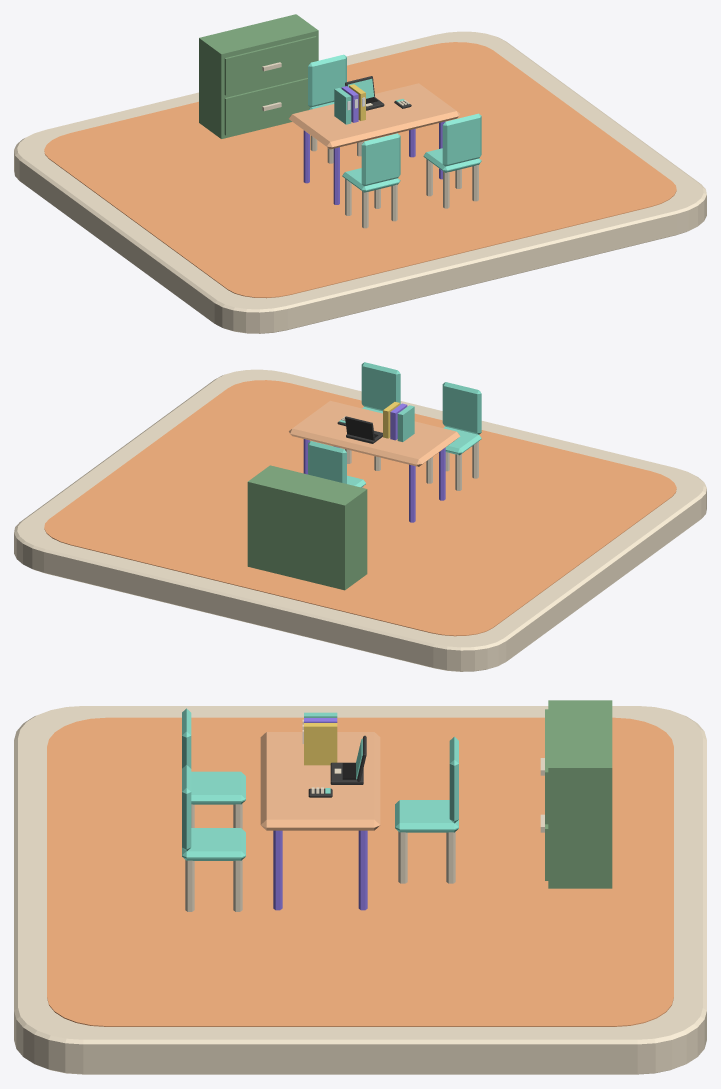
3 views of the same model, one above another, from view 1: azimuth 30°, elevation 25°; view 2: azimuth 150°, elevation 25°; view 3: azimuth 270°, elevation 25° (orthographic). The views are drawn at different scales.
Visible parts, largest first — view 1: COM-02 Floor Surface, COM-01 Rounded Base Direct, Cabinet, Rounded table top, Backrest, Backrest.001, Backrest.002, File, Seat, Seat.001; view 2: COM-02 Floor Surface, COM-01 Rounded Base Direct, Cabinet, Rounded table top, Backrest, Backrest.001, Backrest.002, File, Seat, Hinged display; view 3: COM-02 Floor Surface, COM-01 Rounded Base Direct, Cabinet, Rounded table top, Seat.002, Seat.001, Seat, File.002, Backrest.001, Backrest.002, Leg.002, Leg.003.
Boxes of the visible parts, bbox=[...] form: COM-02 Floor Surface: bbox=[44, 42, 676, 298]; COM-01 Rounded Base Direct: bbox=[14, 31, 706, 333]; Cabinet: bbox=[199, 14, 318, 138]; Rounded table top: bbox=[289, 83, 459, 149]; Backrest: bbox=[361, 133, 400, 186]; Backrest.001: bbox=[442, 113, 481, 166]; Backrest.002: bbox=[308, 54, 346, 107]; File: bbox=[334, 88, 351, 124]; Seat: bbox=[342, 168, 400, 192]; Seat.001: bbox=[423, 148, 481, 172]; COM-02 Floor Surface: bbox=[44, 380, 676, 636]; COM-01 Rounded Base Direct: bbox=[14, 369, 706, 671]; Cabinet: bbox=[247, 465, 367, 590]; Rounded table top: bbox=[289, 400, 460, 466]; Backrest: bbox=[442, 382, 481, 434]; Backrest.001: bbox=[361, 362, 400, 411]; Backrest.002: bbox=[308, 441, 346, 483]; File: bbox=[397, 405, 414, 441]; Seat: bbox=[443, 426, 481, 455]; Hinged display: bbox=[345, 416, 374, 440]; COM-02 Floor Surface: bbox=[47, 717, 673, 1026]; COM-01 Rounded Base Direct: bbox=[14, 706, 706, 1074]; Cabinet: bbox=[540, 700, 612, 888]; Rounded table top: bbox=[260, 732, 380, 830]; Seat.002: bbox=[395, 800, 458, 832]; Seat.001: bbox=[182, 828, 245, 860]; Seat: bbox=[191, 771, 245, 804]; File.002: bbox=[304, 723, 337, 765]; Backrest.001: bbox=[182, 765, 191, 851]; Backrest.002: bbox=[449, 736, 458, 823]; Leg.002: bbox=[273, 830, 282, 910]; Leg.003: bbox=[358, 830, 367, 910].
Bounding box in the file's own units: 6 × 1.42 × 5.2.
Materials: 1 (1 with a texture image).
